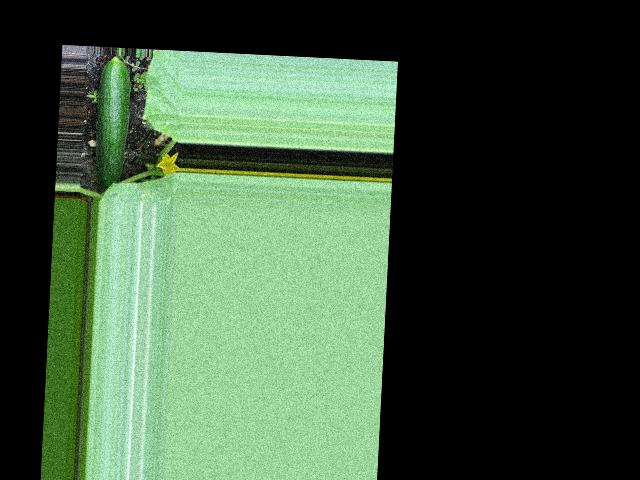cucumber: (92, 55, 132, 190)
